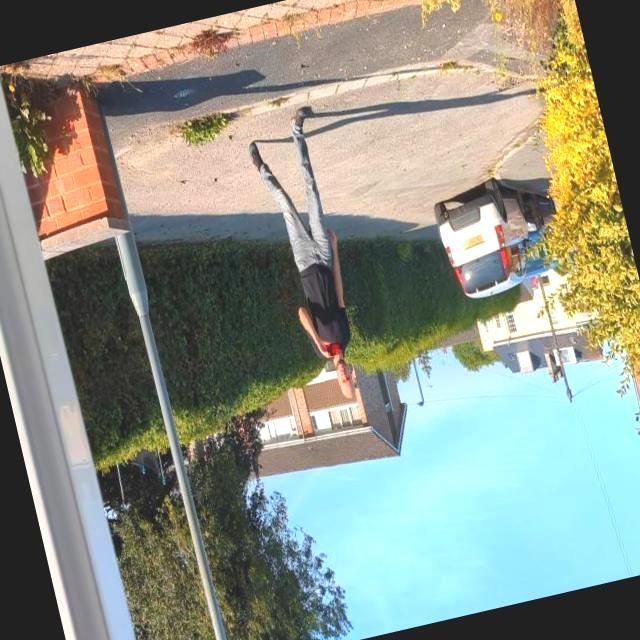phone: (326, 342, 340, 356)
